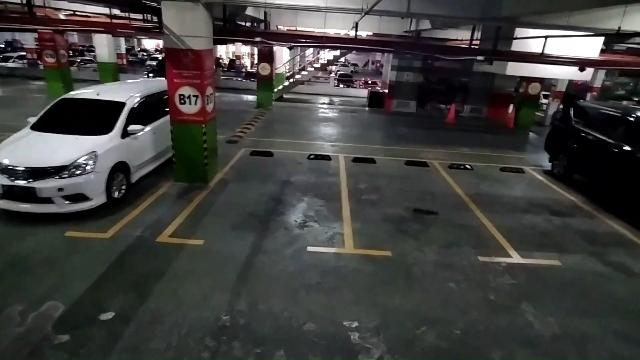empty: (185, 148, 345, 252), (453, 160, 592, 264), (345, 157, 453, 256)
occupied: (1, 102, 170, 236)
